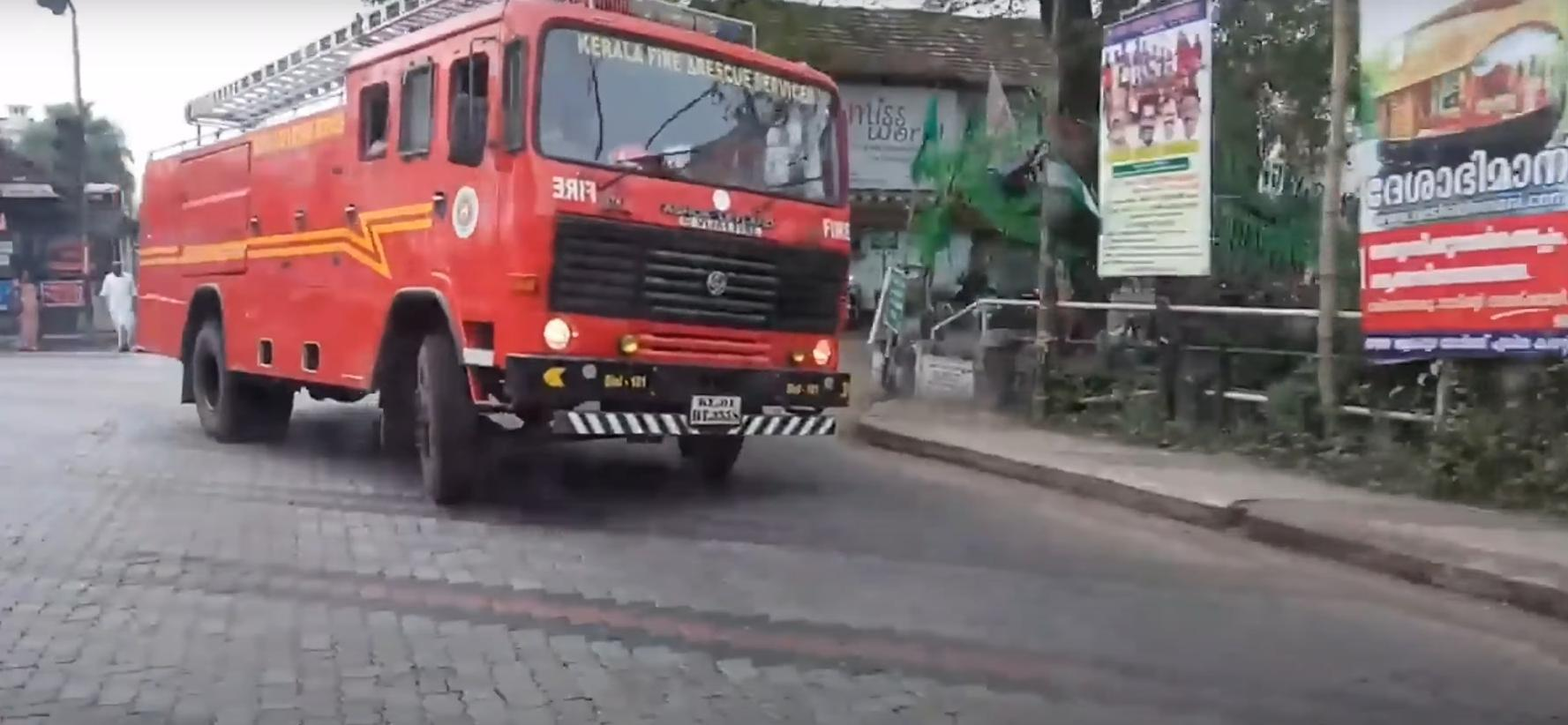Fire-engine: (130, 0, 858, 504), (184, 0, 502, 139), (544, 164, 604, 209)
